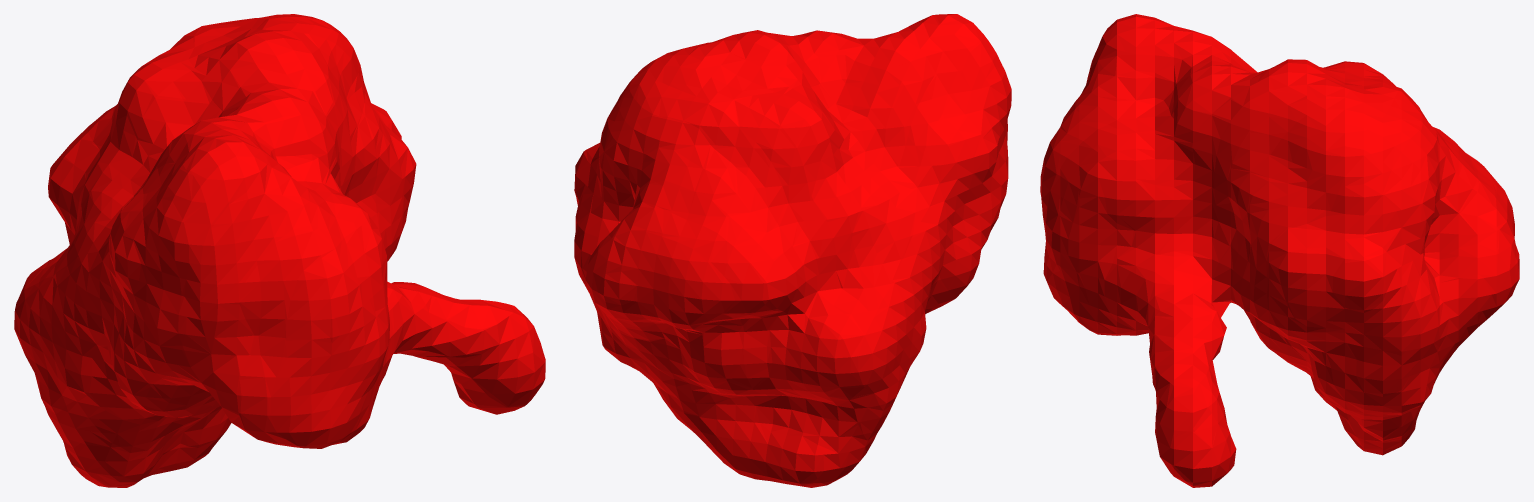
File: tyrB_coarse.dae
3 renders of one model, left to right at view 1: azimuth 30°, elevation 25°; view 2: azimuth 150°, elevation 25°; view 3: azimuth 270°, elevation 25°, orthographic. The views are drawn at different scales.
Parts seen in each view (by area): view 1: tyrB; view 2: tyrB; view 3: tyrB.
Boxes of the visible parts, x1=… form: tyrB: x1=14, y1=14, x2=545, y2=487; tyrB: x1=574, y1=14, x2=1011, y2=487; tyrB: x1=1040, y1=14, x2=1519, y2=487.
Bounding box in the file's own units: 60.95 × 61.95 × 66.07.
